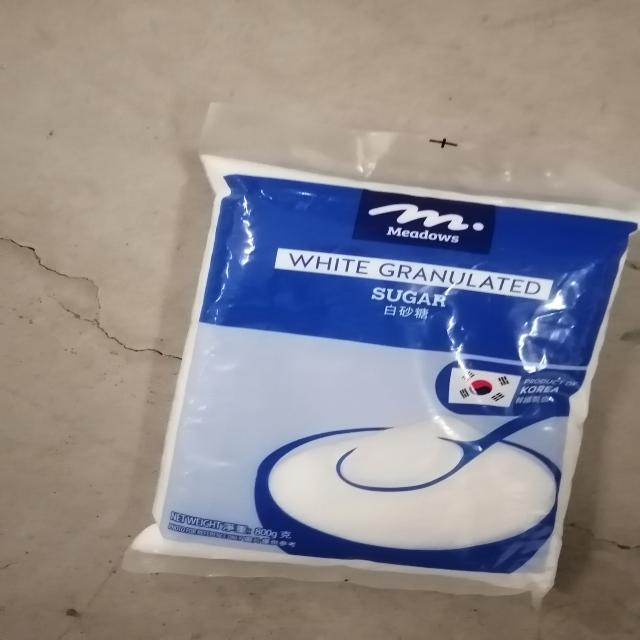object_name: (191, 151, 589, 586)
